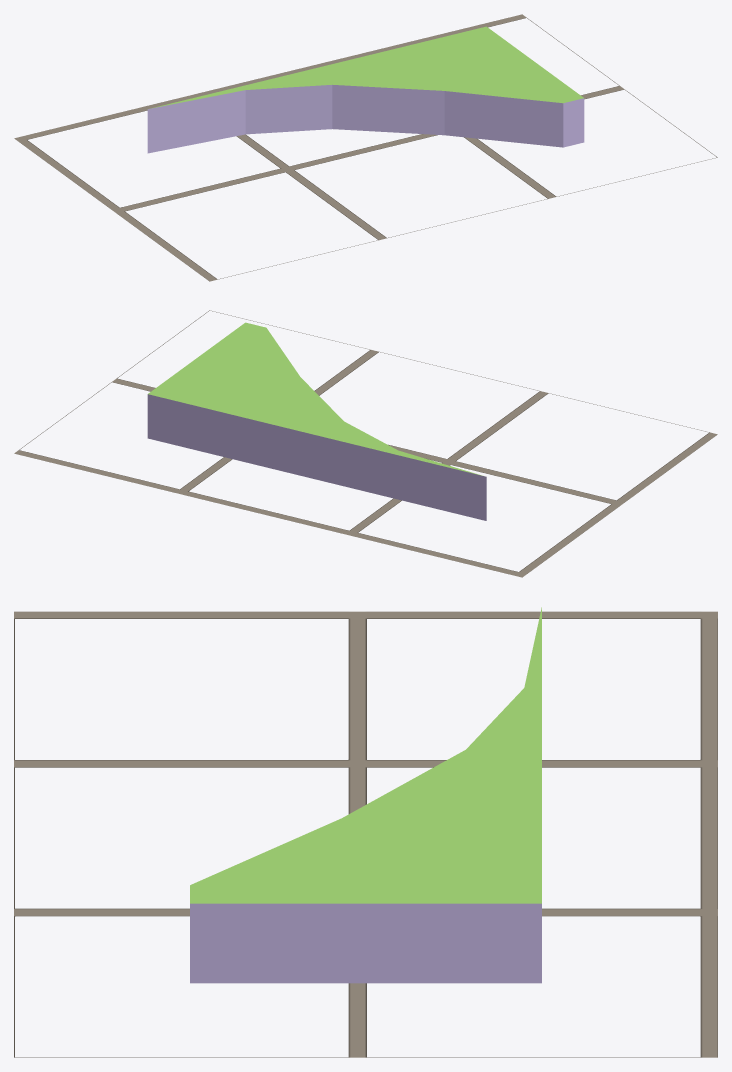
The model's file is Tiered_Grass_45_Degrees_Curve_Inner_Inside_1x2.glb.
3 views of the same model, one above another, from view 1: azimuth 30°, elevation 25°; view 2: azimuth 150°, elevation 25°; view 3: azimuth 270°, elevation 25° (orthographic). The views are drawn at different scales.
Visible parts, largest first — view 1: Tiered_Grass_45_Degrees_Curve_Inner_Inside_1x2, Floor; view 2: Tiered_Grass_45_Degrees_Curve_Inner_Inside_1x2, Floor; view 3: Tiered_Grass_45_Degrees_Curve_Inner_Inside_1x2, Floor.
Part boxes in pixels (x1=…): Tiered_Grass_45_Degrees_Curve_Inner_Inside_1x2: x1=147, y1=26, x2=584, y2=153; Floor: x1=14, y1=14, x2=717, y2=281; Tiered_Grass_45_Degrees_Curve_Inner_Inside_1x2: x1=147, y1=322, x2=486, y2=520; Floor: x1=14, y1=310, x2=717, y2=577; Tiered_Grass_45_Degrees_Curve_Inner_Inside_1x2: x1=190, y1=607, x2=541, y2=983; Floor: x1=14, y1=611, x2=717, y2=1057.
Size of the model in its own units: 300 by 25 by 200.
Materials: 4 (1 with a texture image).
